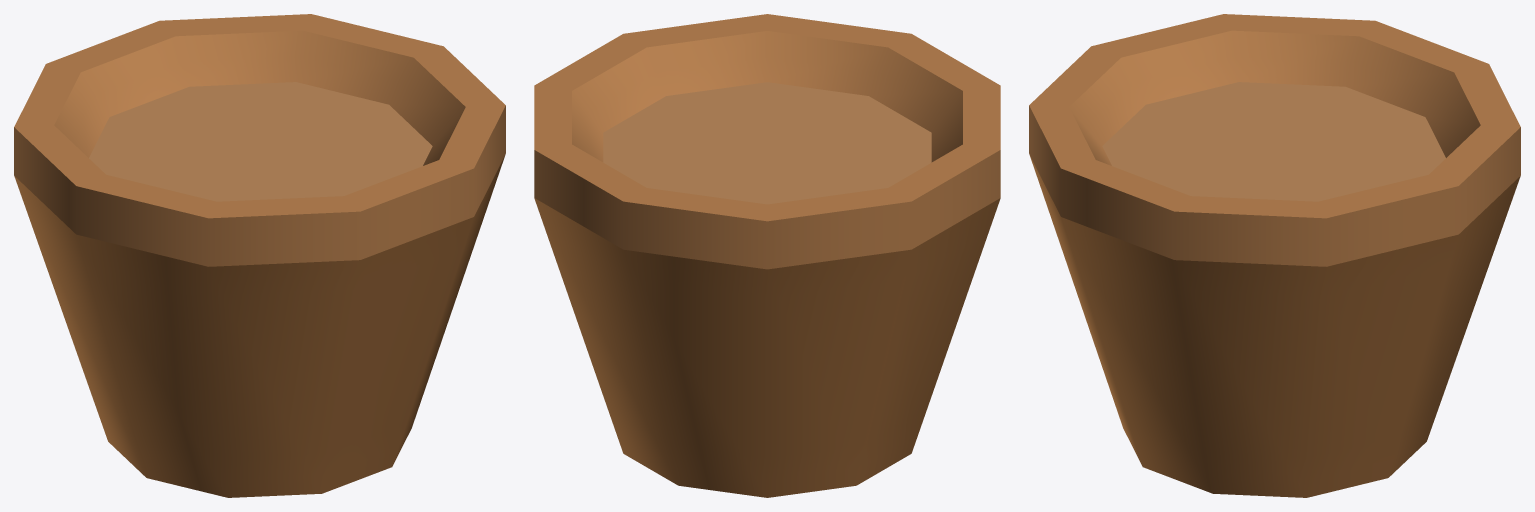
File: PlantPot_5_F.fbx
The picture shows the model from 3 angles, left to right: view 1: azimuth 30°, elevation 25°; view 2: azimuth 150°, elevation 25°; view 3: azimuth 270°, elevation 25°; orthographic projection.
Parts seen in each view (by area): view 1: PlantPot_5_F; view 2: PlantPot_5_F; view 3: PlantPot_5_F.
Part boxes in pixels (left/top/right/bottom): PlantPot_5_F: left=14, top=14, right=505, bottom=497; PlantPot_5_F: left=534, top=14, right=1000, bottom=497; PlantPot_5_F: left=1029, top=14, right=1520, bottom=497.
Size of the model in its own units: 18.93 by 13.76 by 19.24.
